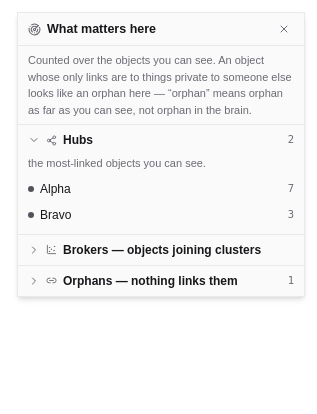
Test: InsightPanelView › explains itself instead of showing an empty broker list mid-load
Click the button "Brokers — objects joining clusters" at (161,250), box [18, 234, 304, 264]
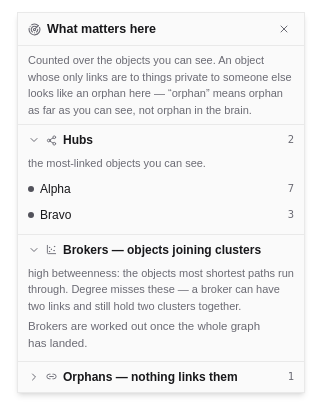
Check: the text "Brokers are worked out once the whole graph has landed." is shown, box [28, 320, 260, 349]
